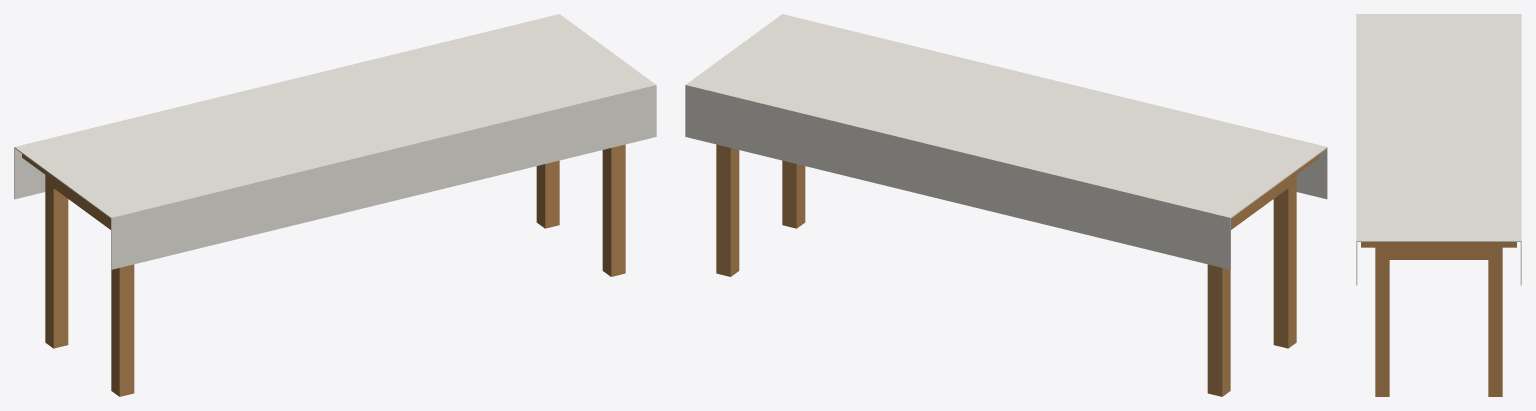
3 renders of one model, left to right at view 1: azimuth 30°, elevation 25°; view 2: azimuth 150°, elevation 25°; view 3: azimuth 270°, elevation 25°, orthographic. The views are drawn at different scales.
Visible parts, largest first — view 1: parametric-variant-table-2nd-pub-d9a02bb7eba20e6c5f17; view 2: parametric-variant-table-2nd-pub-d9a02bb7eba20e6c5f17; view 3: parametric-variant-table-2nd-pub-d9a02bb7eba20e6c5f17.
Part boxes in pixels (box(x1,y1,x2,y2)): parametric-variant-table-2nd-pub-d9a02bb7eba20e6c5f17: box(14, 14, 656, 396); parametric-variant-table-2nd-pub-d9a02bb7eba20e6c5f17: box(685, 14, 1327, 396); parametric-variant-table-2nd-pub-d9a02bb7eba20e6c5f17: box(1356, 14, 1521, 396).
Size of the model in its own units: 2.24 by 0.754 by 0.69.
